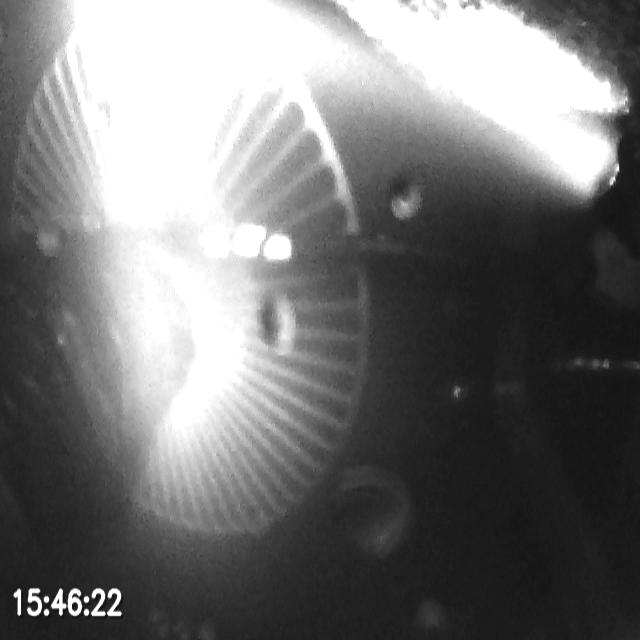white-dots: (200, 223, 294, 264)
